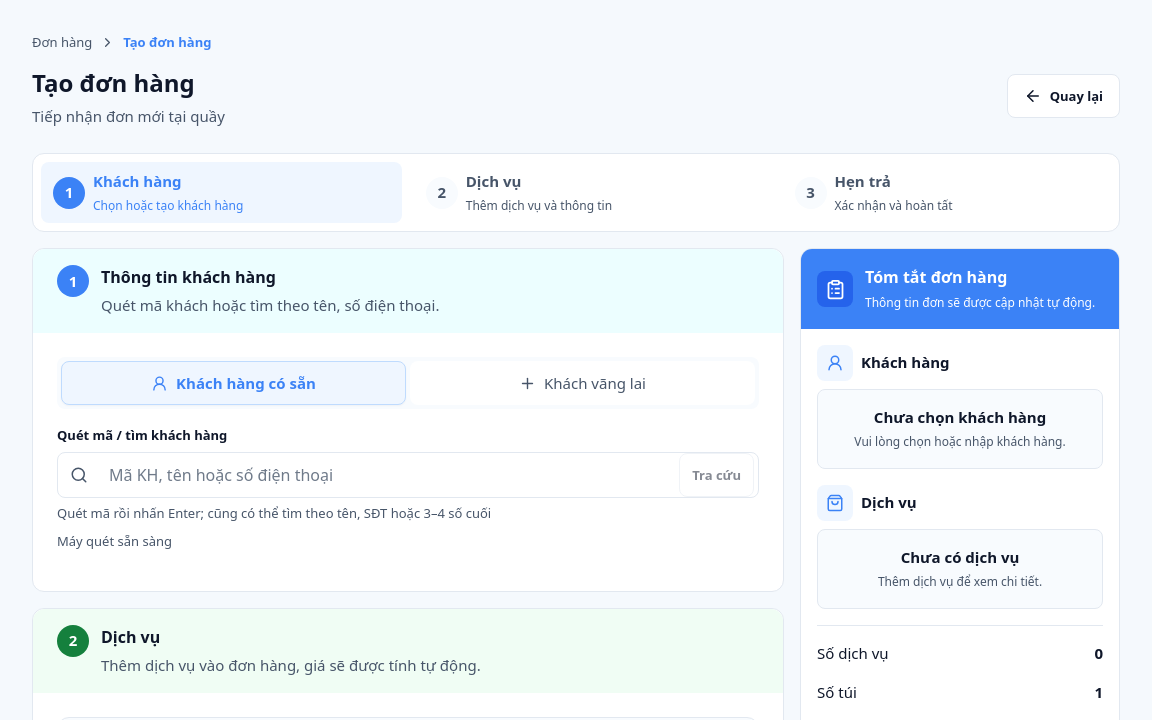
Test: Order pages › explains guest persistence and exposes Vietnamese processing choices
Click the button "Khách vãng lai" at (582, 384), box [410,362,755,406]
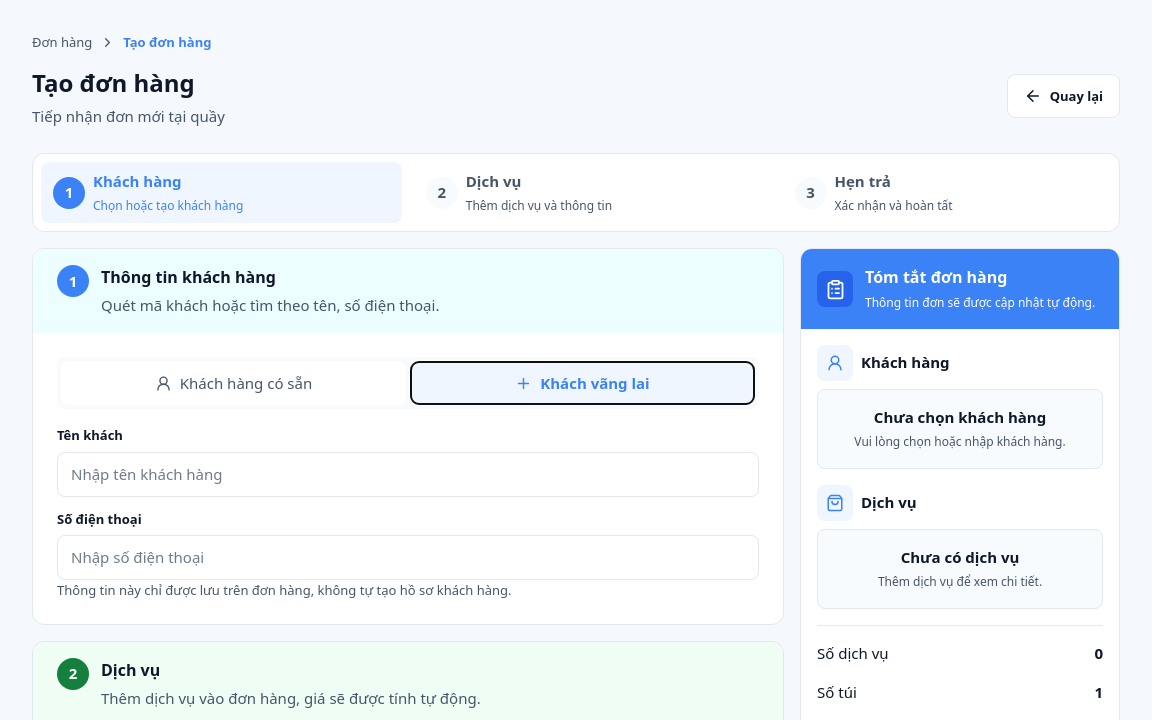
Expected: the text "không tự tạo hồ sơ khách hàng" is shown, [57,581,512,599]
